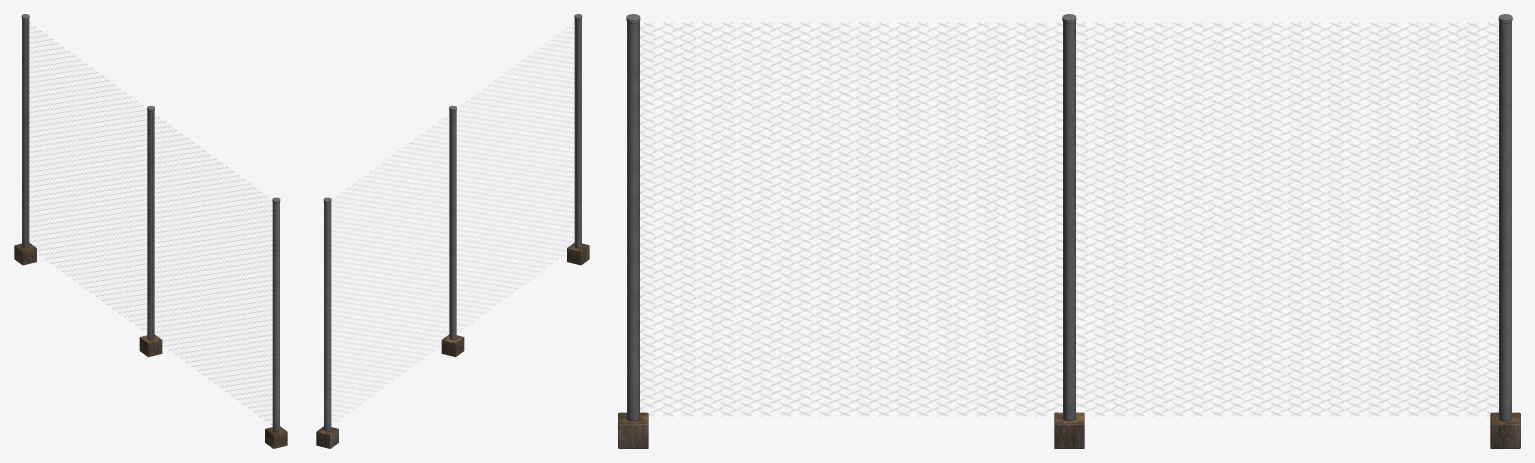
Rendered from railing.glb.
3 renders of one model, left to right at view 1: azimuth 30°, elevation 25°; view 2: azimuth 150°, elevation 25°; view 3: azimuth 270°, elevation 25°, orthographic. The views are drawn at different scales.
Parts seen in each view (by area): view 1: Pagar (×4), Penahan (×3); view 2: Pagar (×4), Penahan (×3); view 3: Pagar (×4), Penahan (×3).
Boxes of the visible parts, x1,y1,x2,y2 form: Pagar (×4): (21,14,280,431); Penahan (×3): (14,243,287,448); Pagar (×4): (323,14,582,431); Penahan (×3): (316,243,589,448); Pagar (×4): (626,14,1512,421); Penahan (×3): (618,412,1520,448).
Size of the model in its own units: 0.1334 by 2.16 by 4.15.
1 material, 1 textured.
